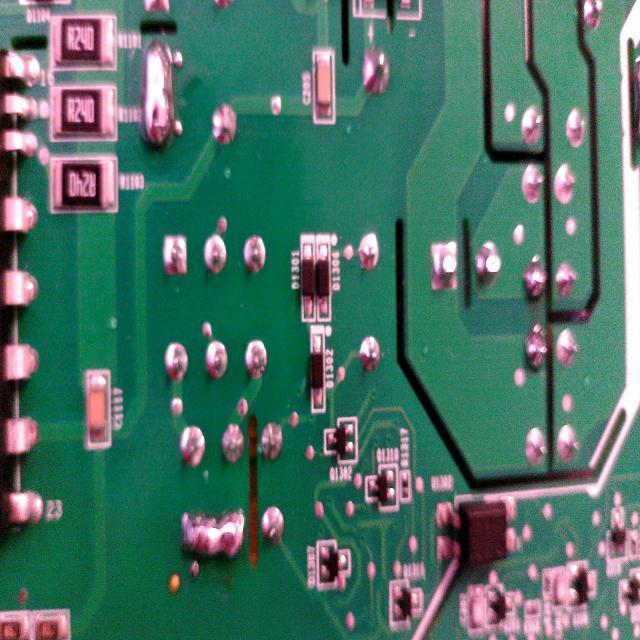Soldering shorted: (178, 496, 248, 565), (140, 40, 178, 152)
